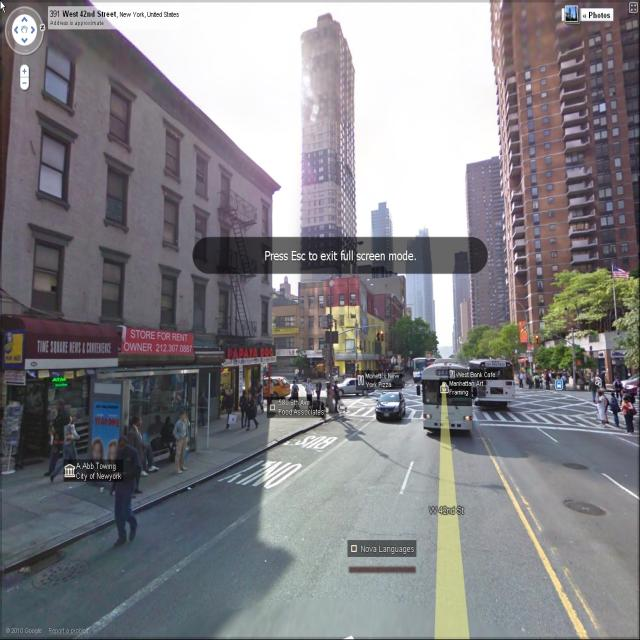b_1: (4, 18, 272, 415), (486, 5, 640, 274), (288, 3, 364, 299), (460, 146, 518, 332), (322, 268, 377, 389), (399, 226, 440, 358), (360, 193, 412, 297), (287, 279, 328, 361), (448, 236, 474, 359)
b_2: (521, 265, 638, 413)
